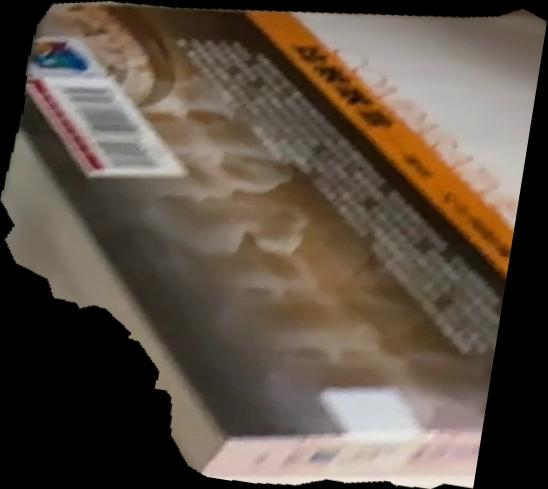flat: (1, 1, 548, 489)
